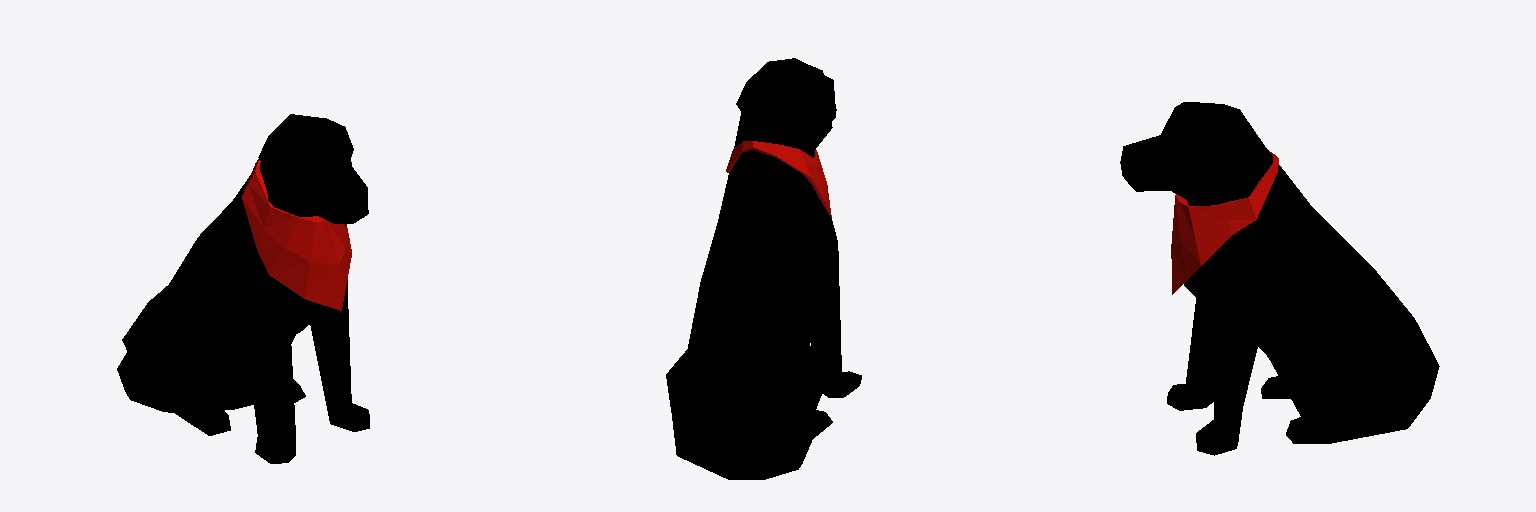
File: matapaColor.obj
3 views of the same model, side by side, from view 1: azimuth 30°, elevation 25°; view 2: azimuth 150°, elevation 25°; view 3: azimuth 270°, elevation 25° (orthographic).
Visible parts, largest first — view 1: MATAPACO002, BANDANA; view 2: MATAPACO002, BANDANA; view 3: MATAPACO002, BANDANA.
Part boxes in pixels (x1,y1,x2,y2): MATAPACO002: (117, 114, 369, 463); BANDANA: (242, 159, 351, 310); MATAPACO002: (666, 58, 861, 479); BANDANA: (726, 141, 831, 217); MATAPACO002: (1120, 102, 1439, 455); BANDANA: (1171, 151, 1278, 294).
Size of the model in its own units: 3.43 by 6.35 by 5.76.